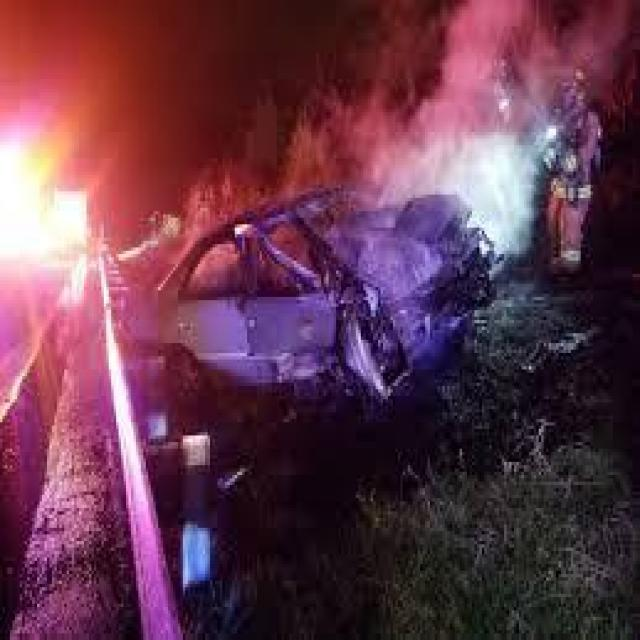other: (0, 100, 88, 274)
smoke: (379, 16, 540, 247)
